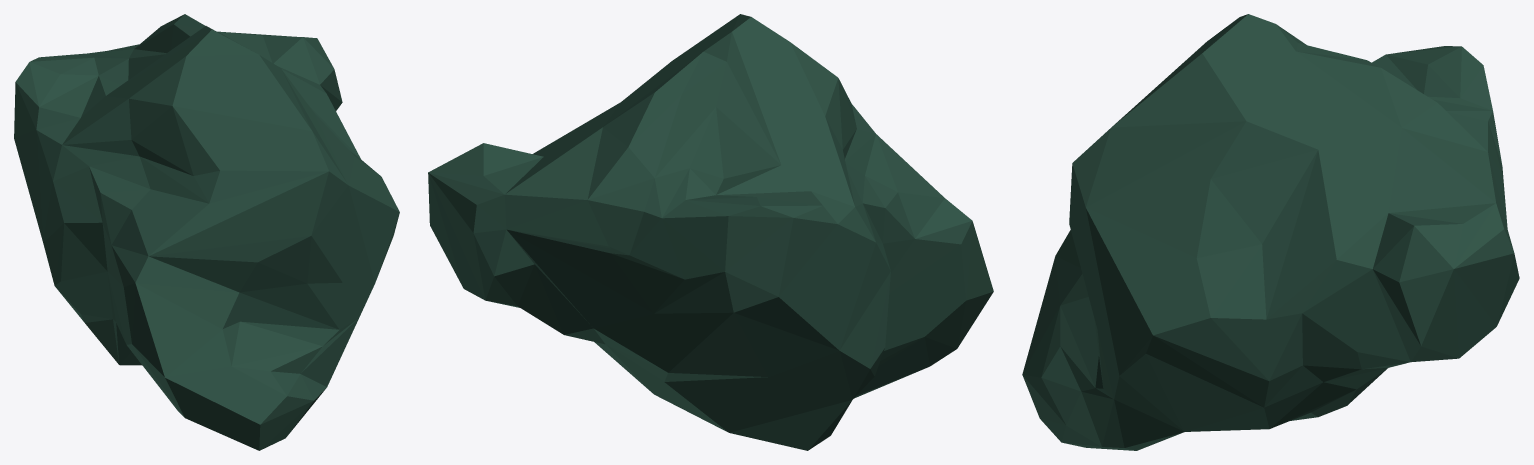
File: SM_large_rock_38.fbx
3 renders of one model, left to right at view 1: azimuth 30°, elevation 25°; view 2: azimuth 150°, elevation 25°; view 3: azimuth 270°, elevation 25°, orthographic. The views are drawn at different scales.
Parts seen in each view (by area): view 1: large_rock_38; view 2: large_rock_38; view 3: large_rock_38.
Part boxes in pixels (<box>): large_rock_38: <box>14,14,399,450</box>; large_rock_38: <box>428,14,993,450</box>; large_rock_38: <box>1022,14,1519,450</box>.
Size of the model in its own units: 74.6 by 77.56 by 78.68.
